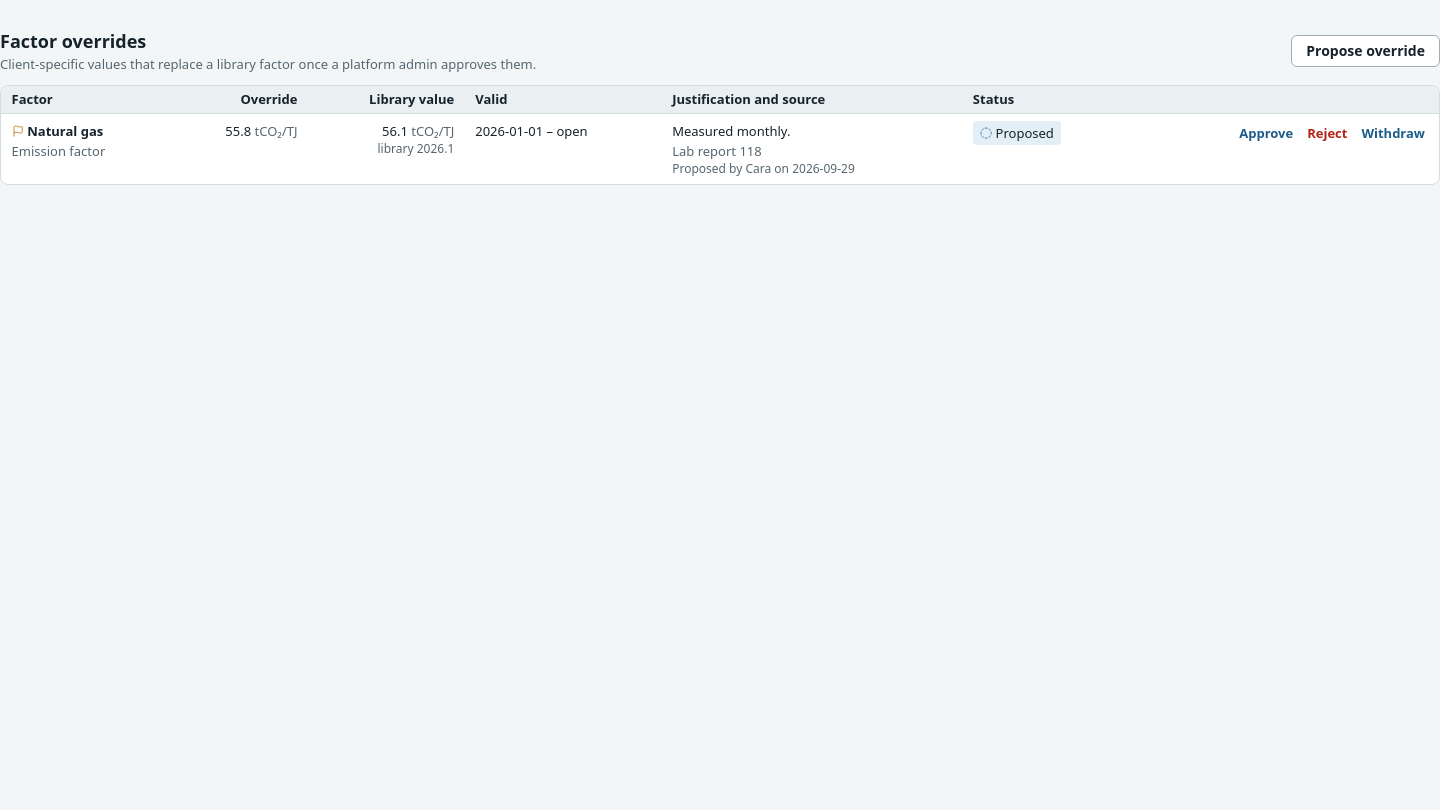
client factor overrides (M4-R5) › the admin approves with an optional note
The width and height of the screenshot is (1440, 810).
Click the button "Approve". click: (1266, 133)
box: 1232,118 -> 1300,149
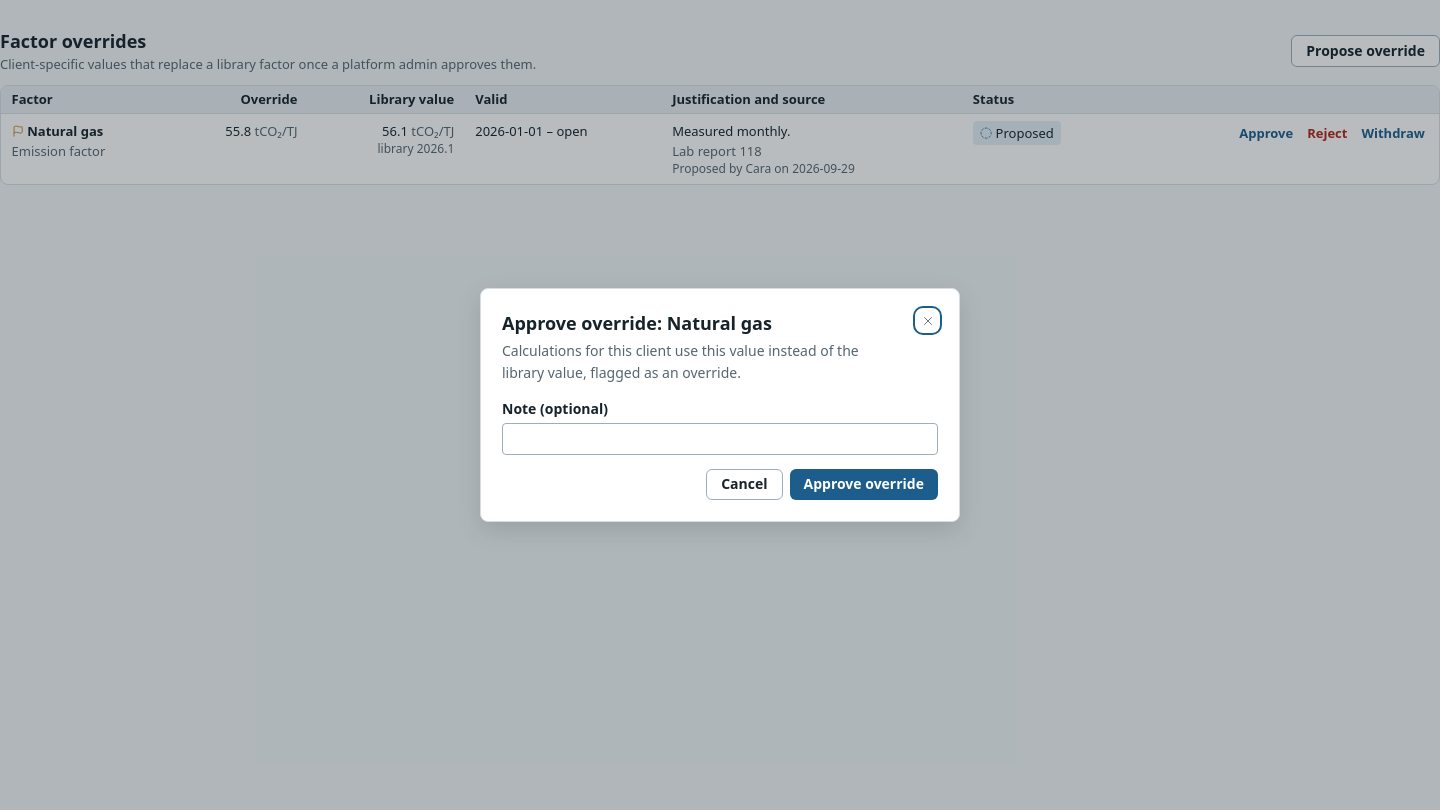
Type "Checked." into the field labelled "Note (optional)". click: (720, 439)
box: 502,423 -> 938,454
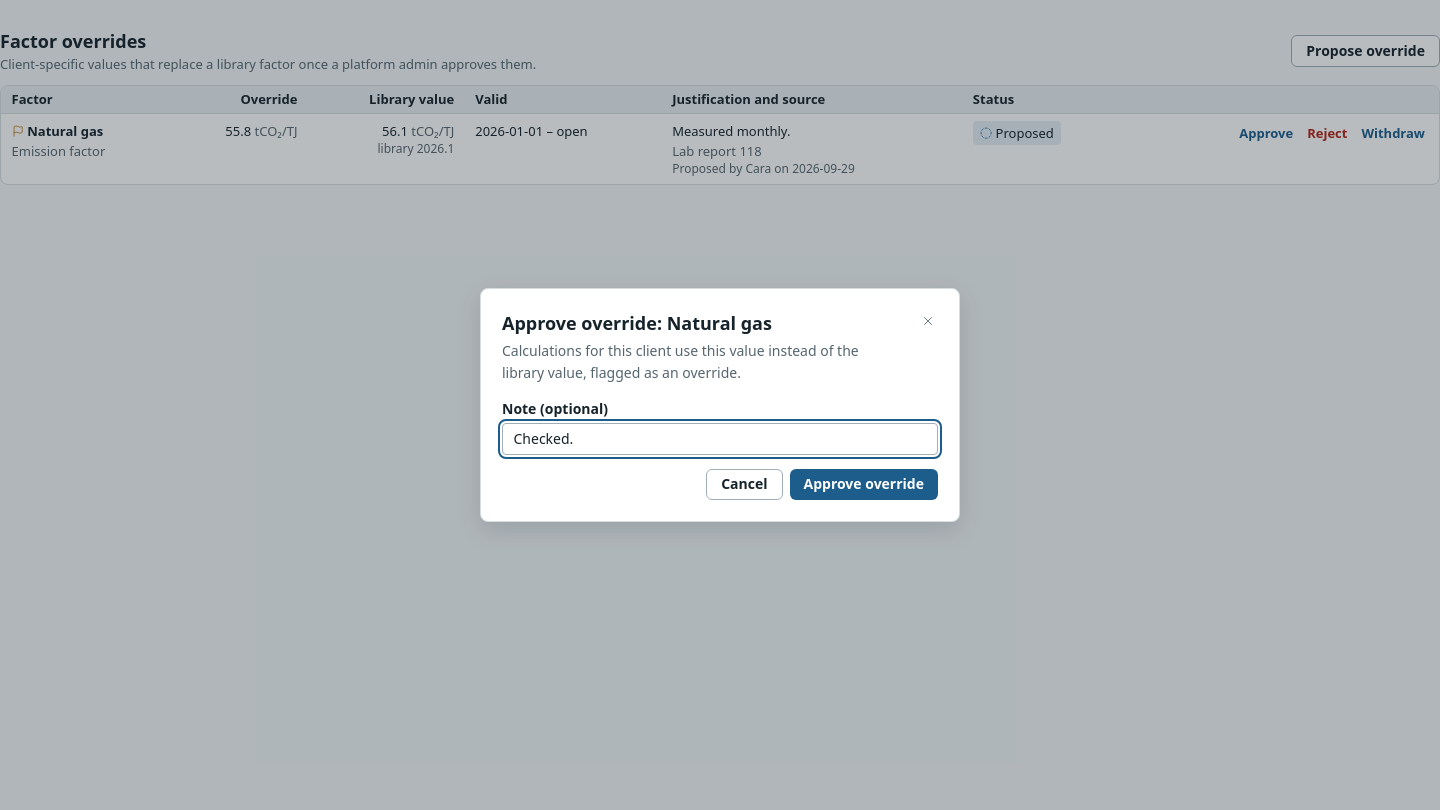
Click the button "Approve override". click: (864, 484)
box: 790,468 -> 938,500
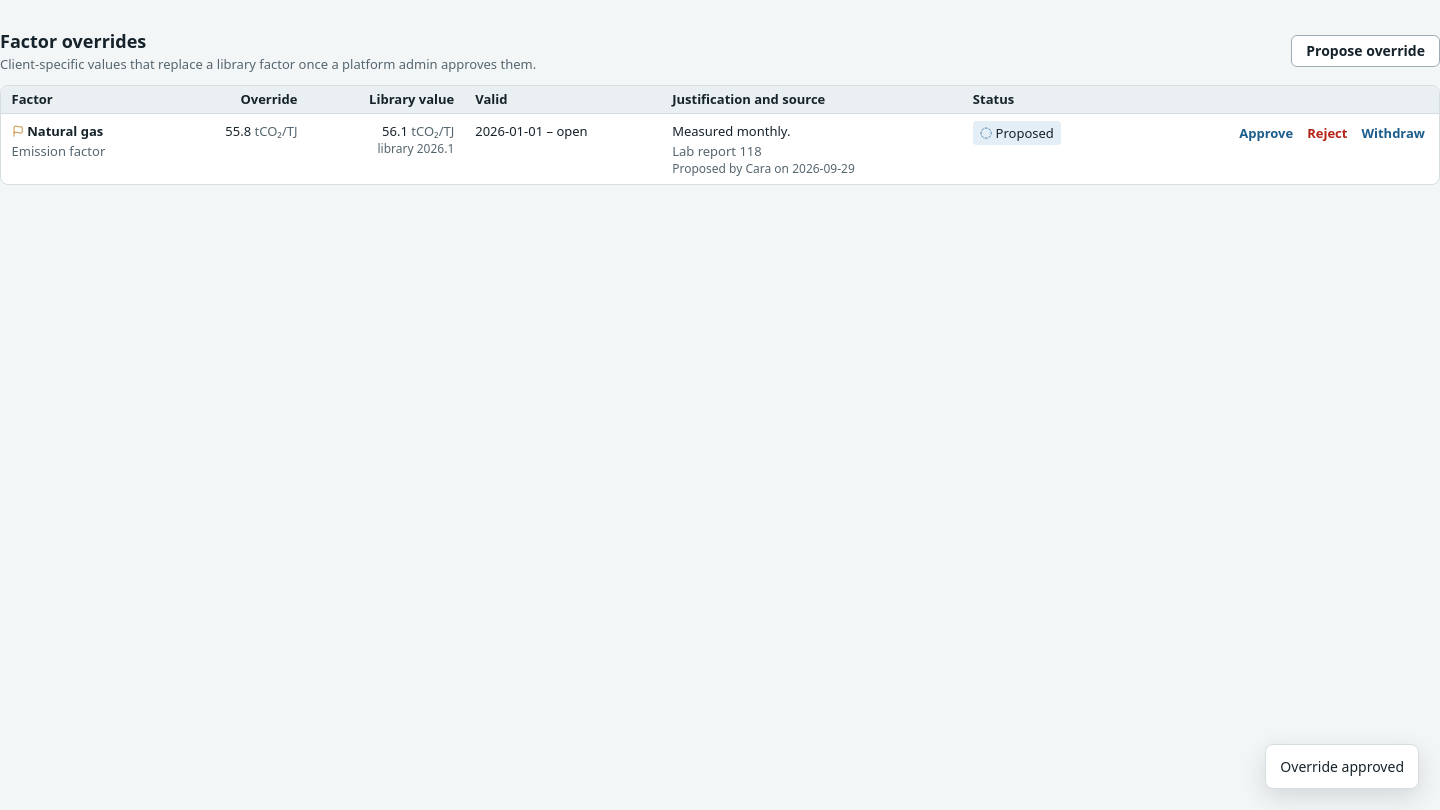
Check: the text "Override approved" is shown, box 1265,744 -> 1419,789
